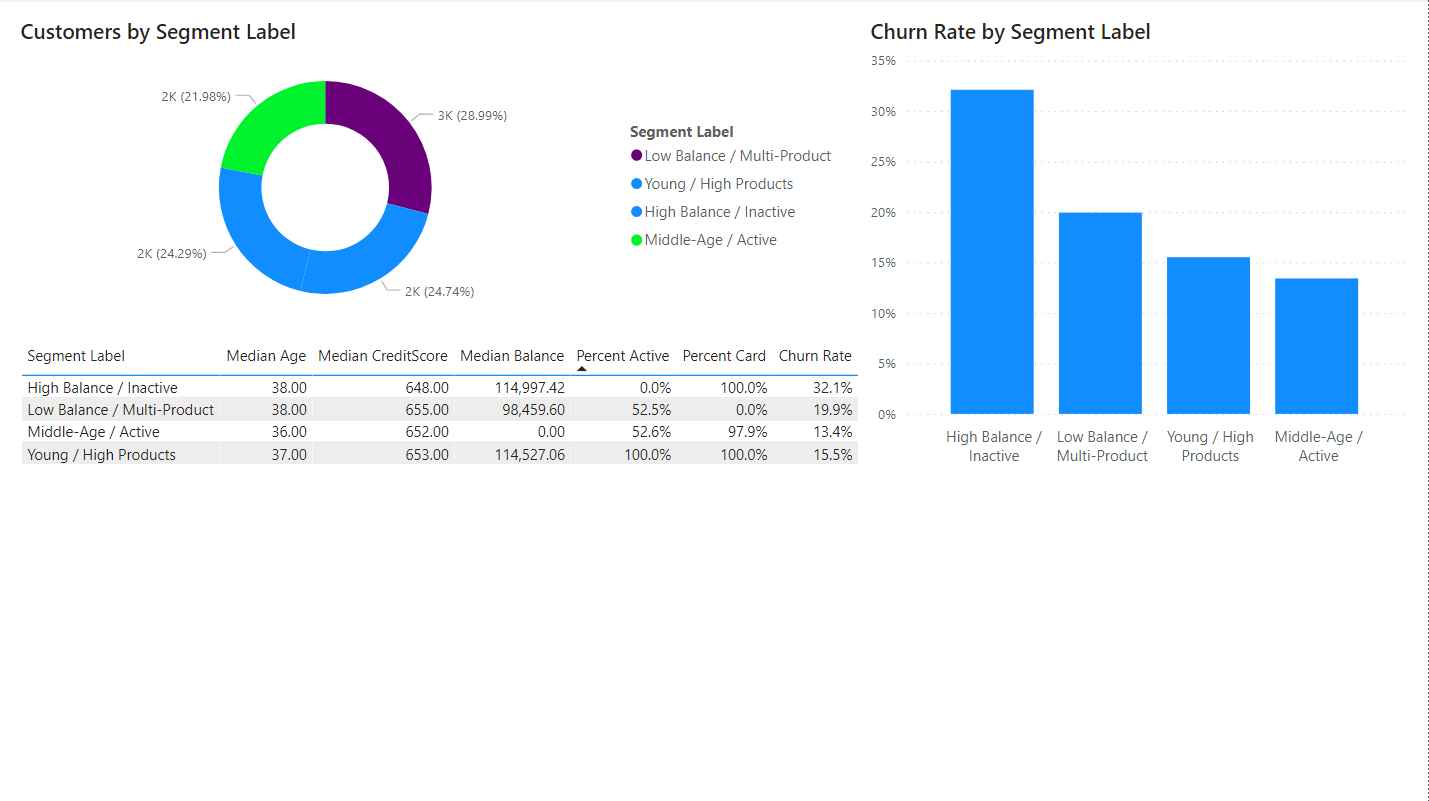

Layout of this report page (visuals, bound fields, positions):
{"tool":"powerbi","page":{"name":"Segments","canvas":[1280,720],"ordinal":3},"visuals":[{"type":"donutChart","fields":{"Category":["bank_churn_clean.Segment Label"],"Y":["bank_churn_clean.Customers"]},"box":[16,16,744,280],"z":0},{"type":"clusteredColumnChart","fields":{"Category":["bank_churn_clean.Segment Label"],"Y":["bank_churn_clean.Churn Rate"]},"box":[776,16,488,408],"z":1000},{"type":"tableEx","fields":{"Values":["bank_churn_clean.Segment Label","bank_churn_clean.Median Age","bank_churn_clean.Median CreditScore","bank_churn_clean.Median Balance","bank_churn_clean.Percent Active","bank_churn_clean.Percent Card","bank_churn_clean.Churn Rate"]},"box":[16,304,760,136],"z":2000}]}

Visuals, with their boxes in screenshot pixels (x1, y1, x2, y2), scaled from the page's 1280x720 canvas onto the 1429x801 screenshot:
donutChart - bank_churn_clean.Segment Label x bank_churn_clean.Customers: Rect(18, 18, 848, 329)
clusteredColumnChart - bank_churn_clean.Segment Label x bank_churn_clean.Churn Rate: Rect(866, 18, 1411, 472)
tableEx - bank_churn_clean.Segment Label x bank_churn_clean.Median Age: Rect(18, 338, 866, 490)
